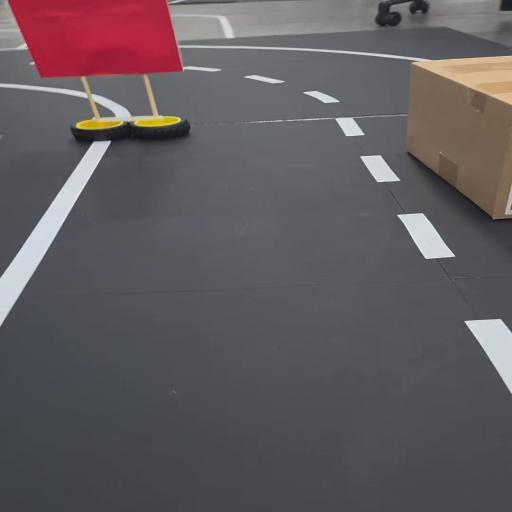Box: (401, 52, 512, 230)
Sign_A: (4, 0, 200, 153)
